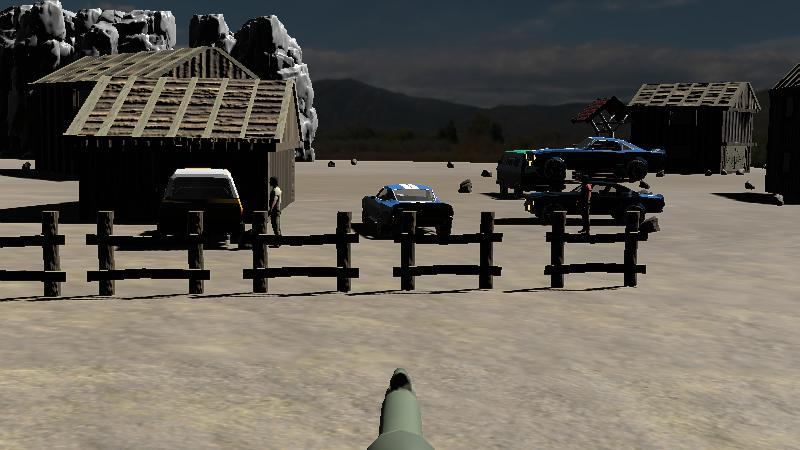House: (61, 71, 309, 224)
Human: (264, 173, 288, 248), (575, 172, 597, 239)
car: (156, 164, 247, 245), (519, 183, 668, 228), (530, 133, 665, 182), (359, 179, 456, 242), (494, 146, 568, 198)
